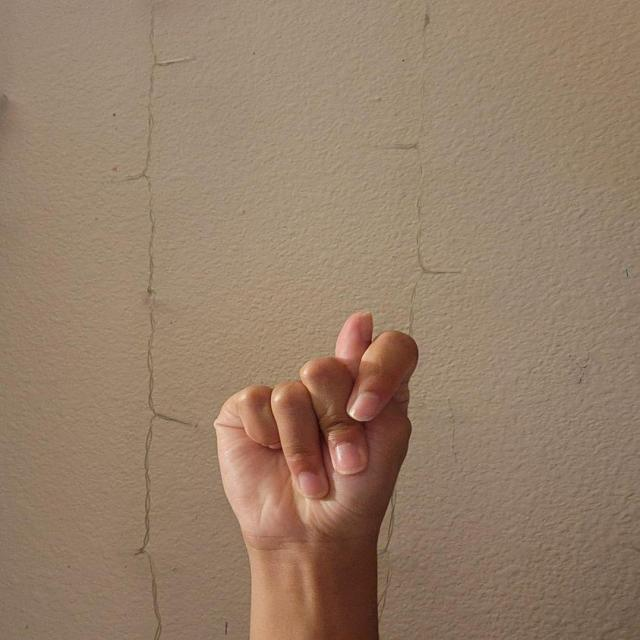T: (212, 306, 427, 554)
